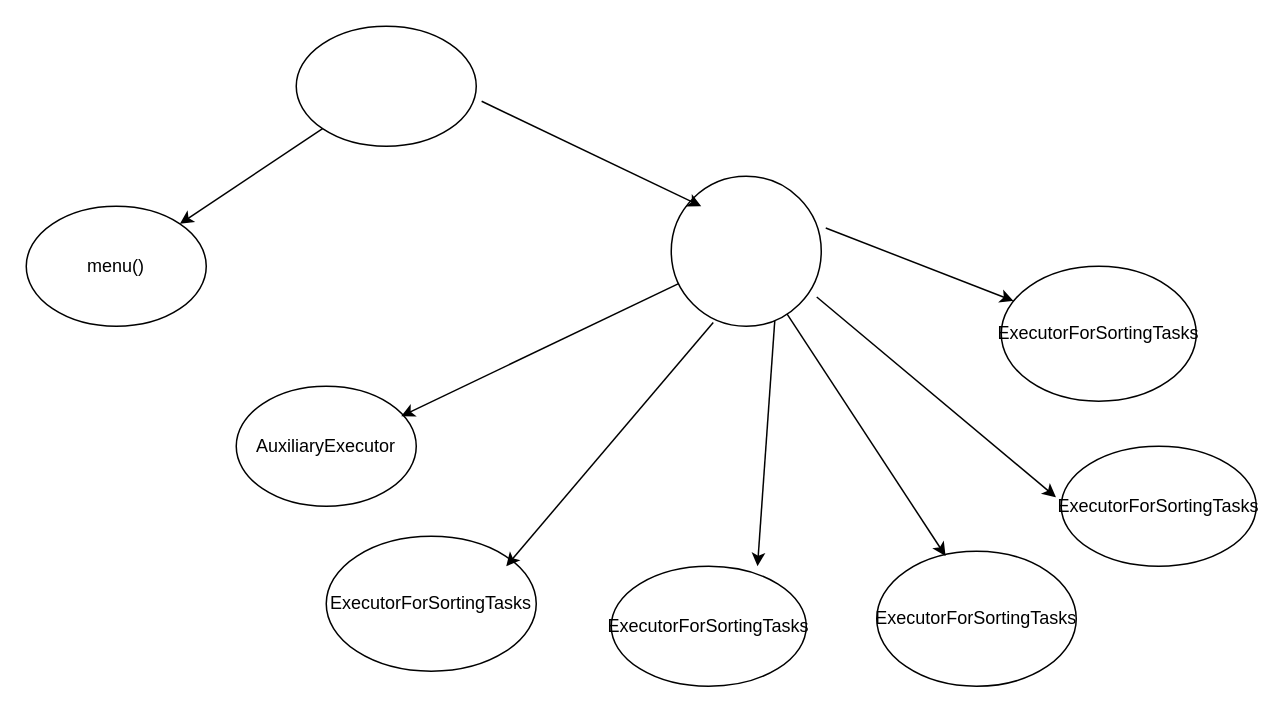
Some shapes in this 1286 by 713 pixel diagram are drawn without their labels. Here are the shapes that lost their labels. From the top down, the box of each, then its label:
(295, 25, 476, 146): SortingServiceLauncher
(670, 175, 821, 326): ExecutorSortingService
